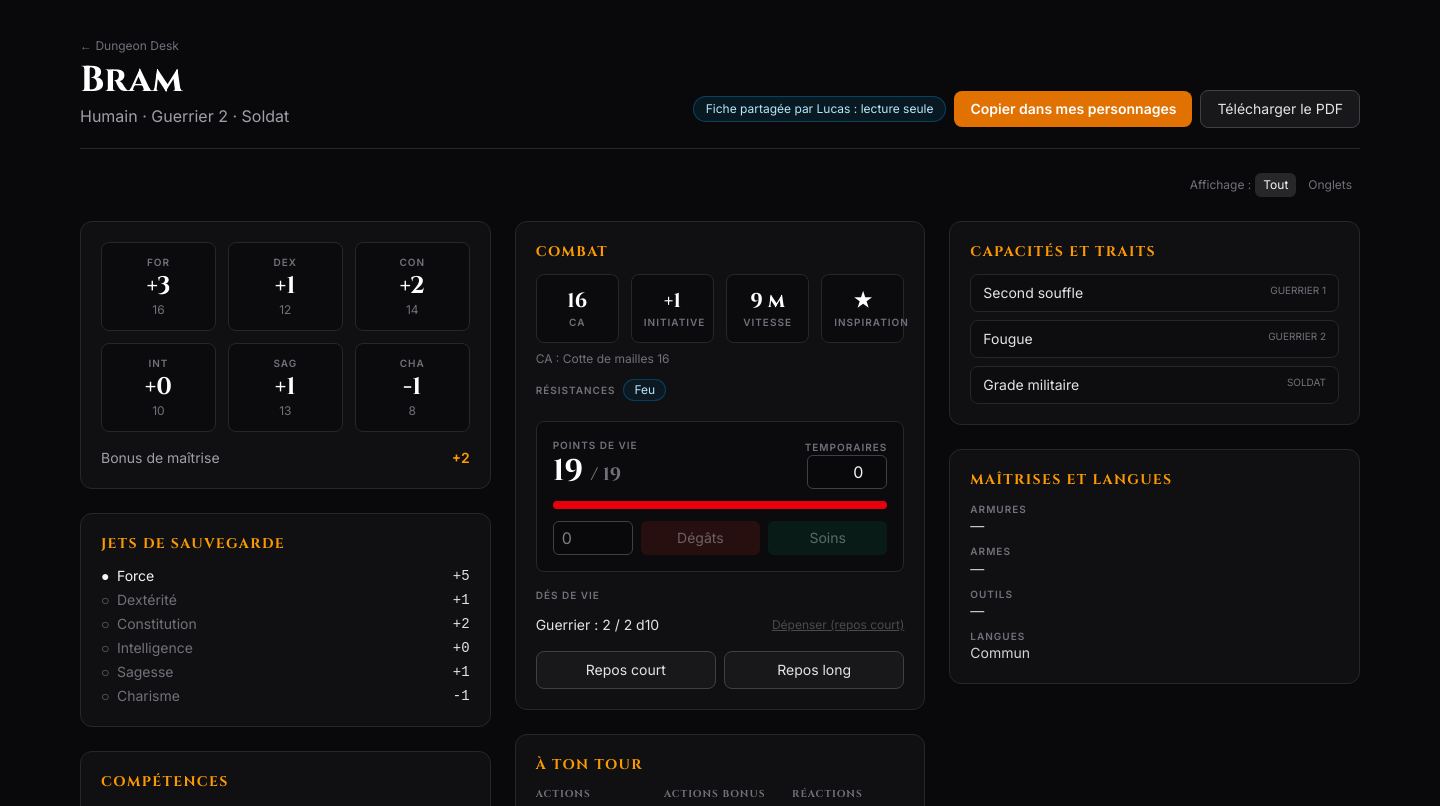
Test: CharacterSheetView › shows a shared sheet read-only, and copies it into the characters of the user
Click the button "Copier dans mes personnages".
click(1074, 109)  # box [954,91,1192,127]
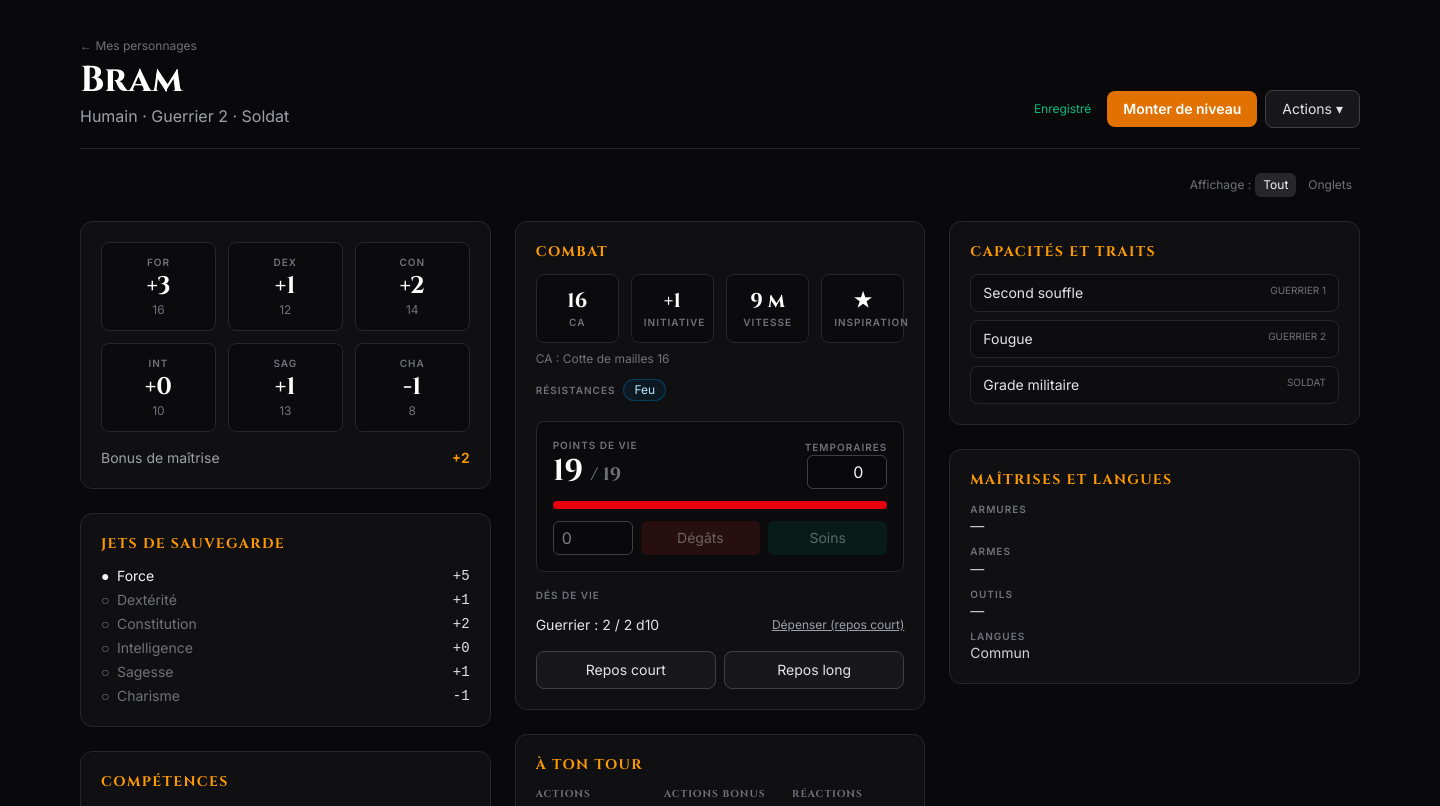
Expected: the text "Fiche partagée par" is gone
